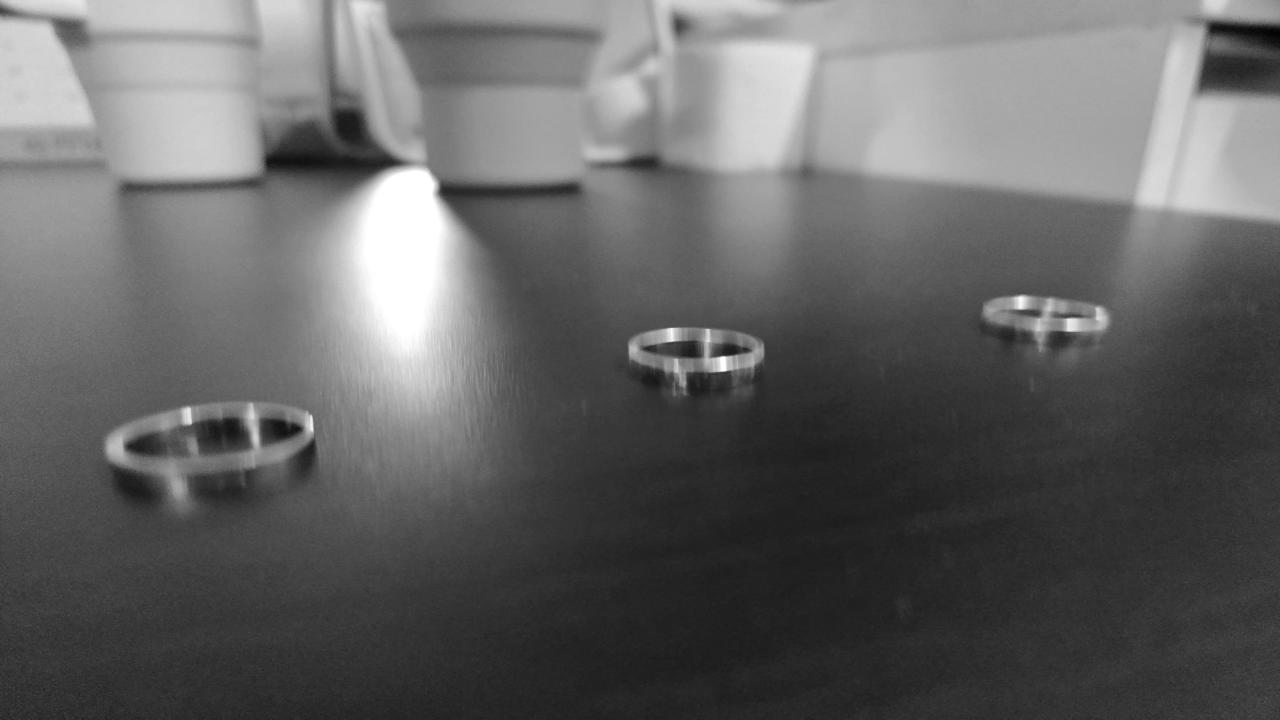ring: (100, 399, 320, 496), (626, 326, 766, 383), (980, 293, 1116, 339)
